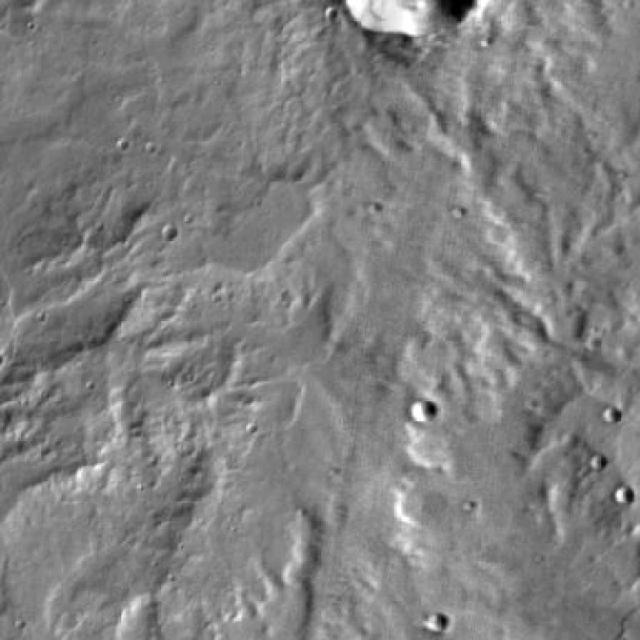crater: (337, 0, 478, 37), (414, 400, 438, 423), (428, 612, 448, 631), (614, 485, 634, 503), (604, 410, 622, 425), (162, 225, 178, 240), (592, 456, 608, 470)
